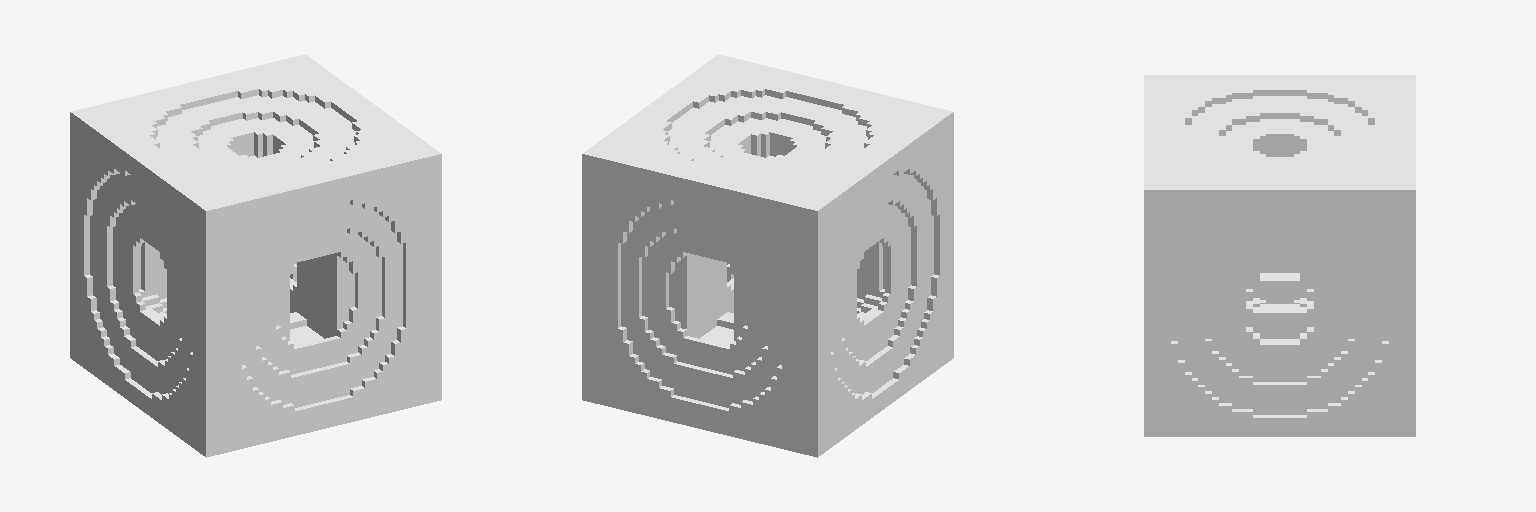
File: PROVA.obj
The picture shows the model from 3 angles: view 1: azimuth 30°, elevation 25°; view 2: azimuth 150°, elevation 25°; view 3: azimuth 270°, elevation 25°; orthographic projection.
Parts seen in each view (by area): view 1: object 1; view 2: object 1; view 3: object 1.
Boxes of the visible parts, box(x1,y1,x2,y2) form: object 1: box(70, 54, 441, 457); object 1: box(582, 54, 953, 457); object 1: box(1144, 75, 1415, 436).
Size of the model in its own units: 4 by 4 by 4.